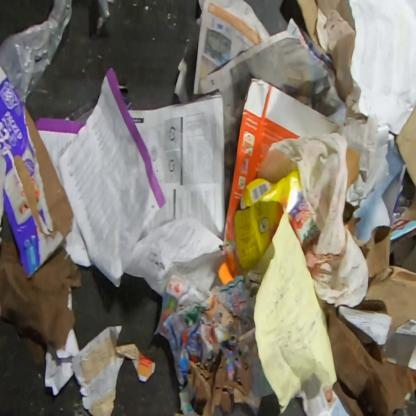cardboard: (223, 75, 341, 242), (0, 65, 75, 280), (234, 169, 303, 273), (351, 264, 415, 338), (395, 103, 415, 190), (295, 0, 326, 55)
soft_plastic: (0, 2, 74, 106)
